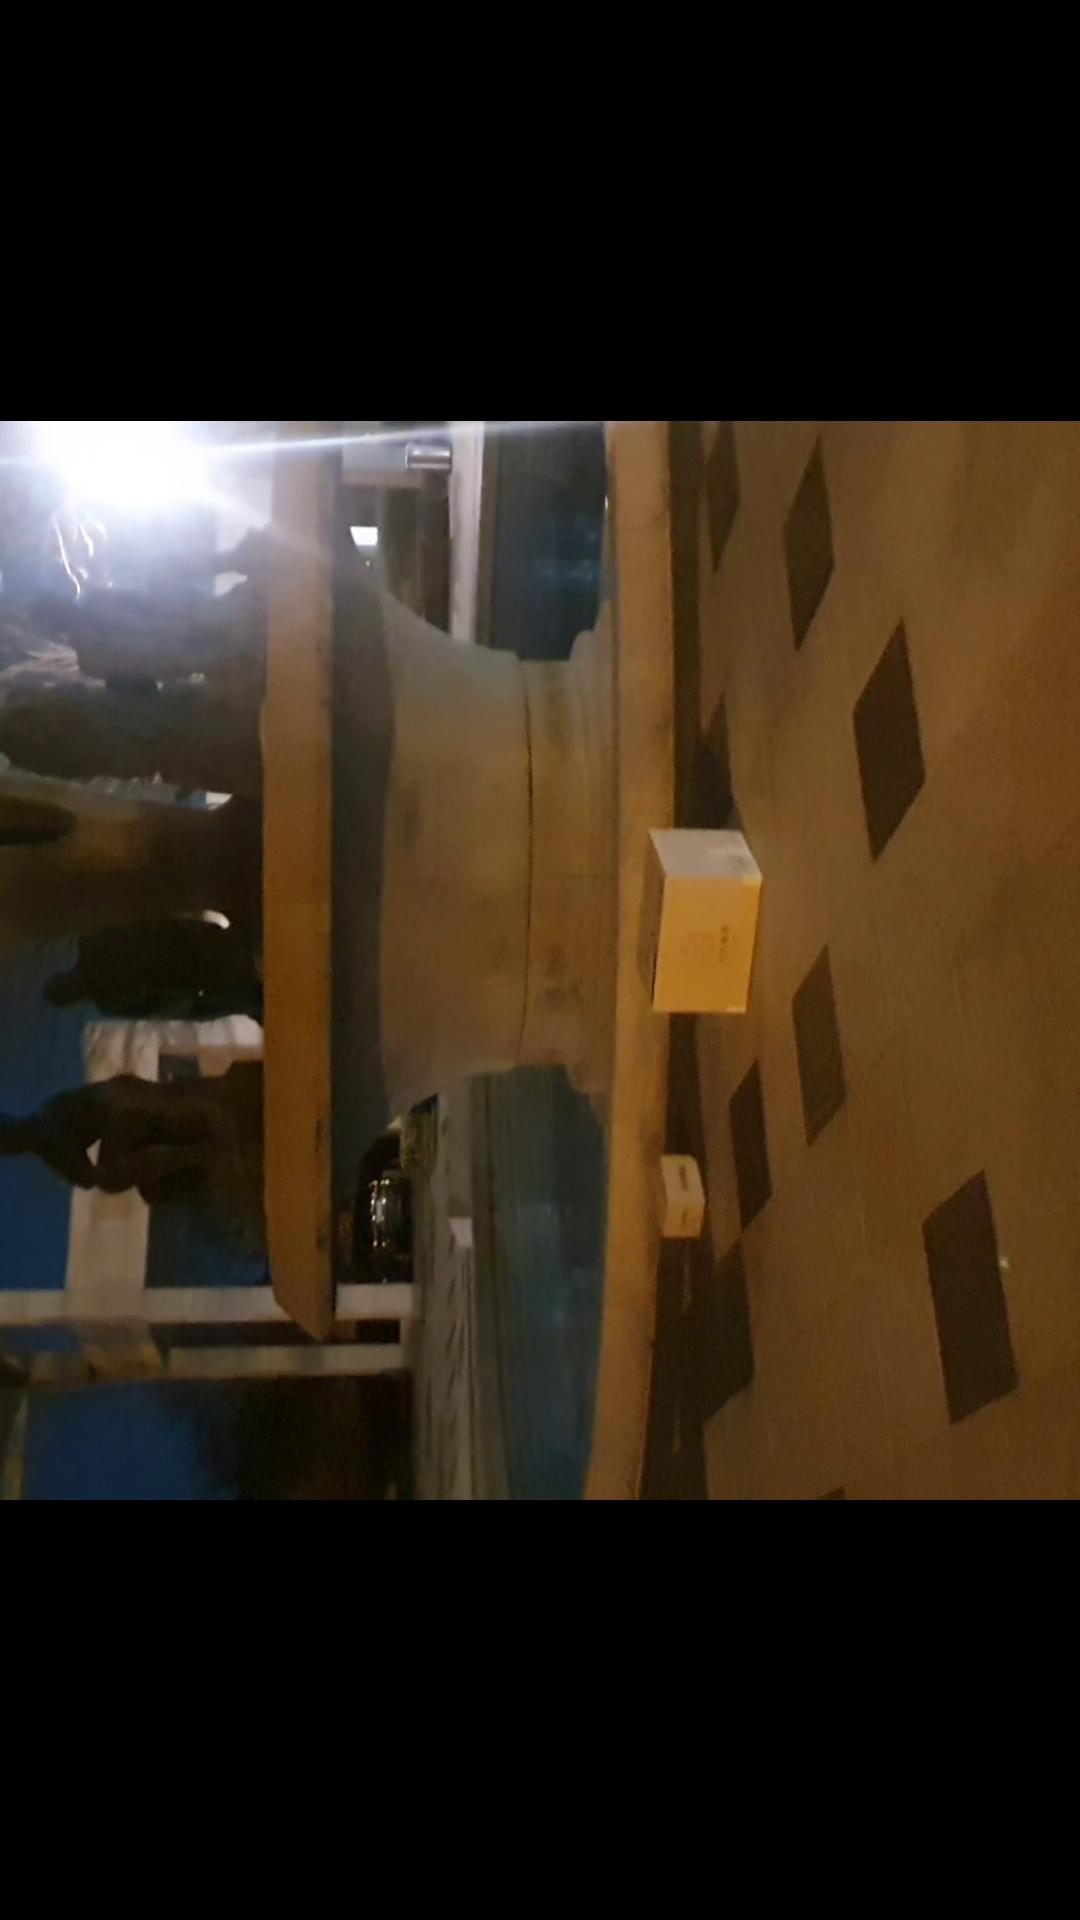Box: (625, 823, 771, 1033), (636, 1149, 709, 1247)
